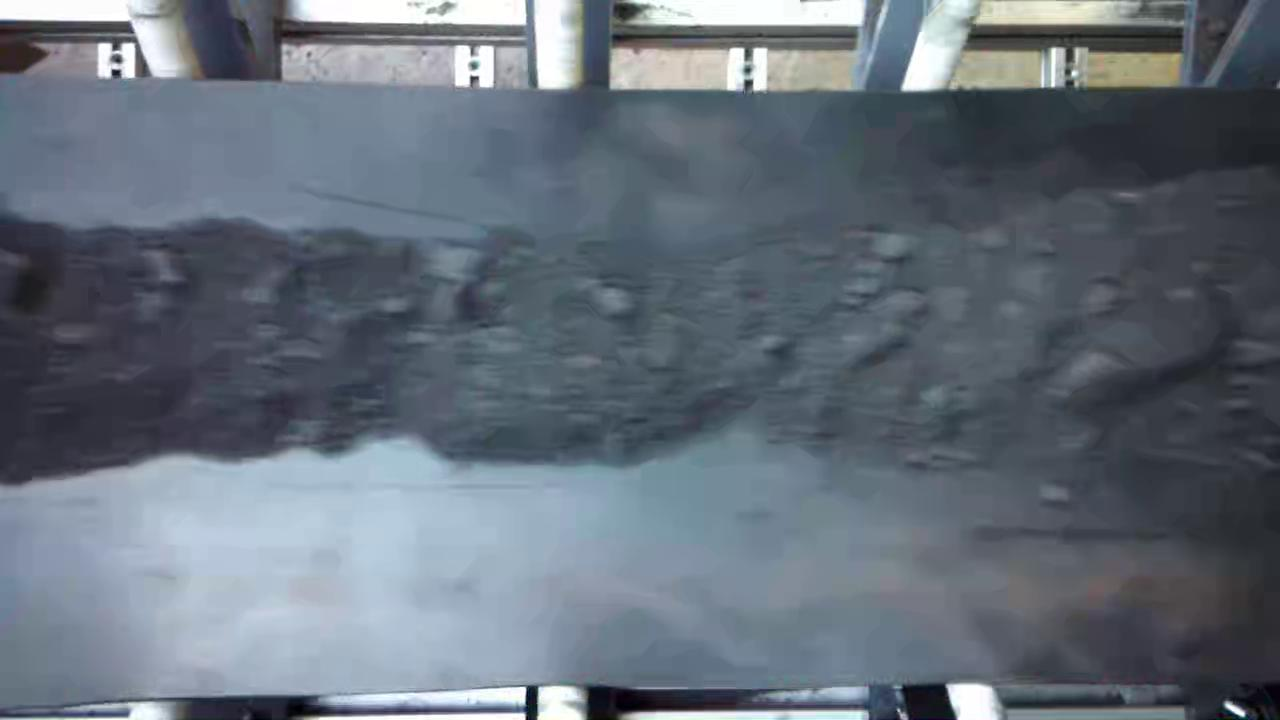conveyor: (9, 107, 1274, 668)
